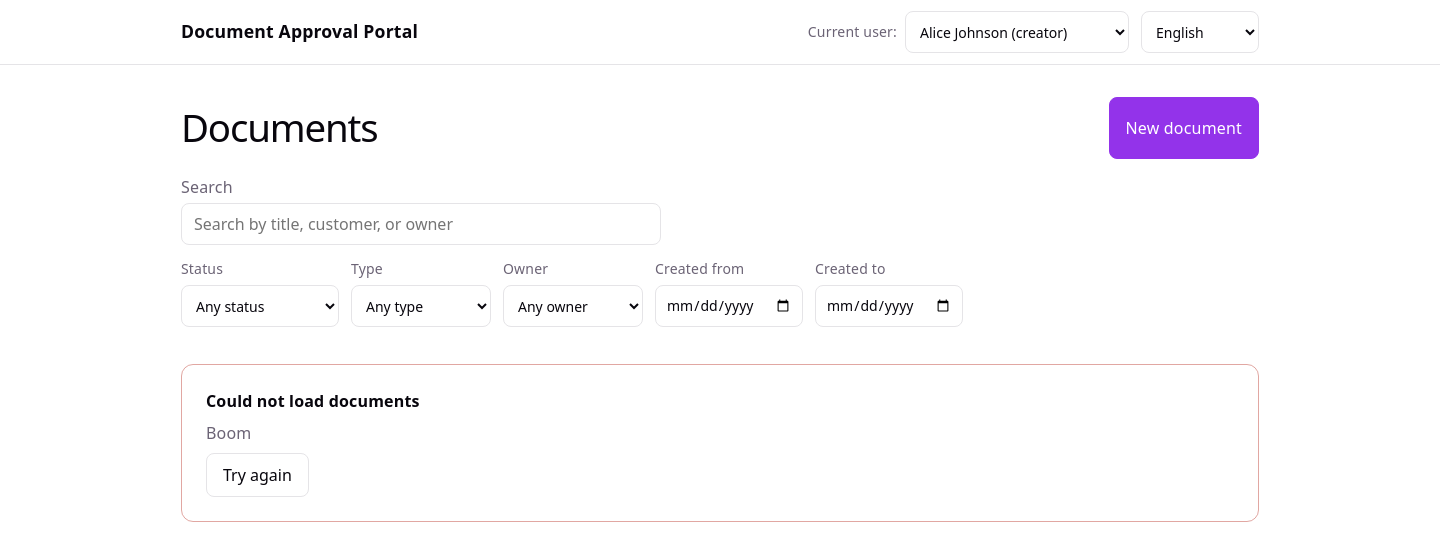
Test case: document list › shows an error state with retry when loading fails, then recovers
Check: the text "Could not load documents" is shown, box [206,389,420,413]
Step 1. Click the button "Try again" → [257, 475], box [206,453,309,497]
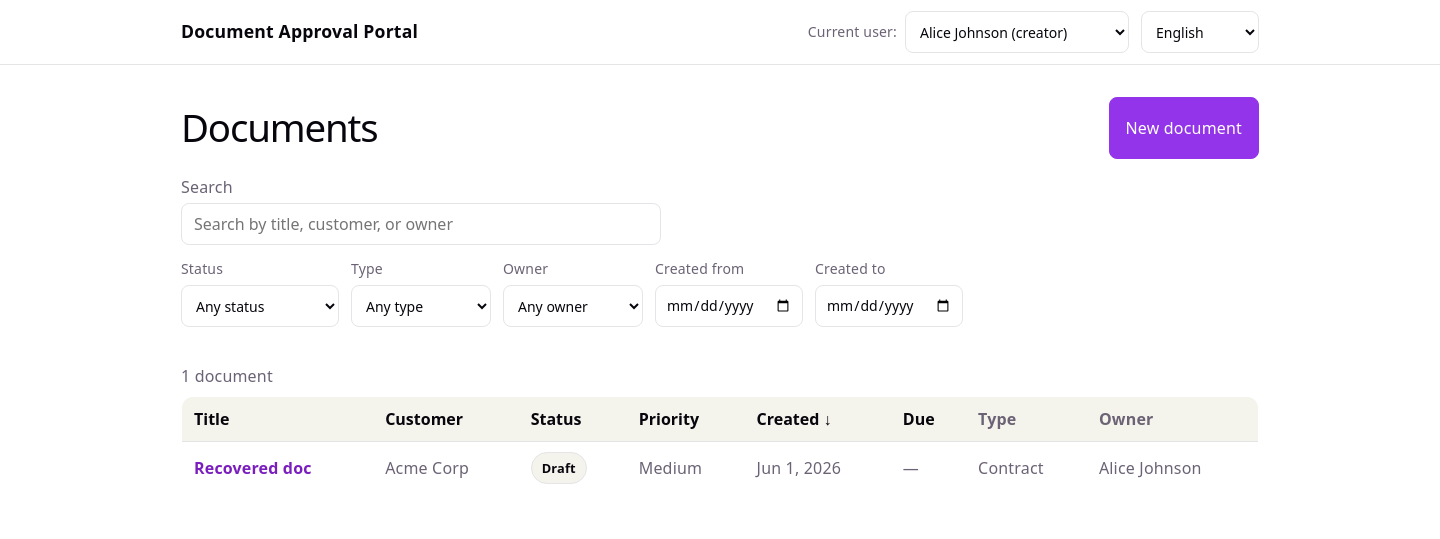
Check: the link "Recovered doc" is shown, box [194,457,312,479]
